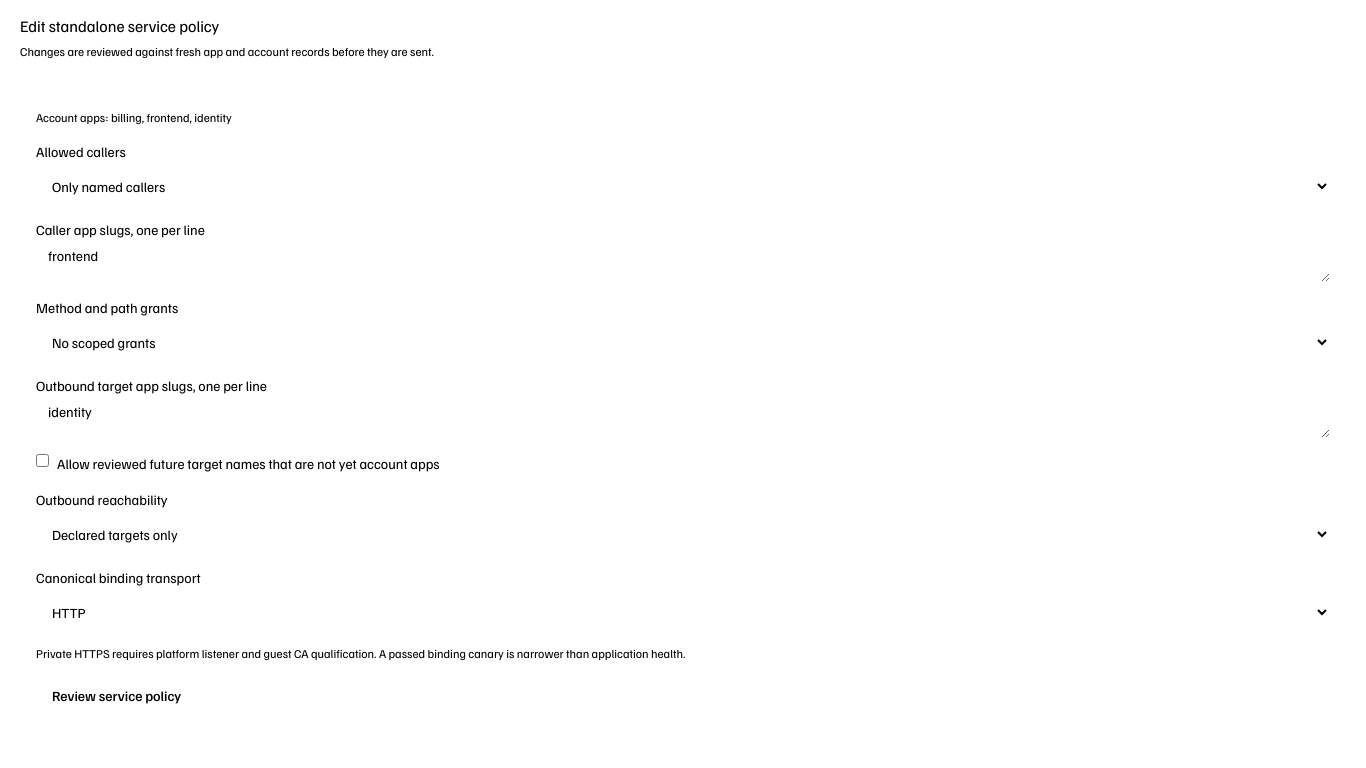
Test: rejects a stale review when policy changes before submit
Select "No internal callers" in the dropdown labelled "Allowed callers" at (683, 186), box [36, 168, 1330, 204]
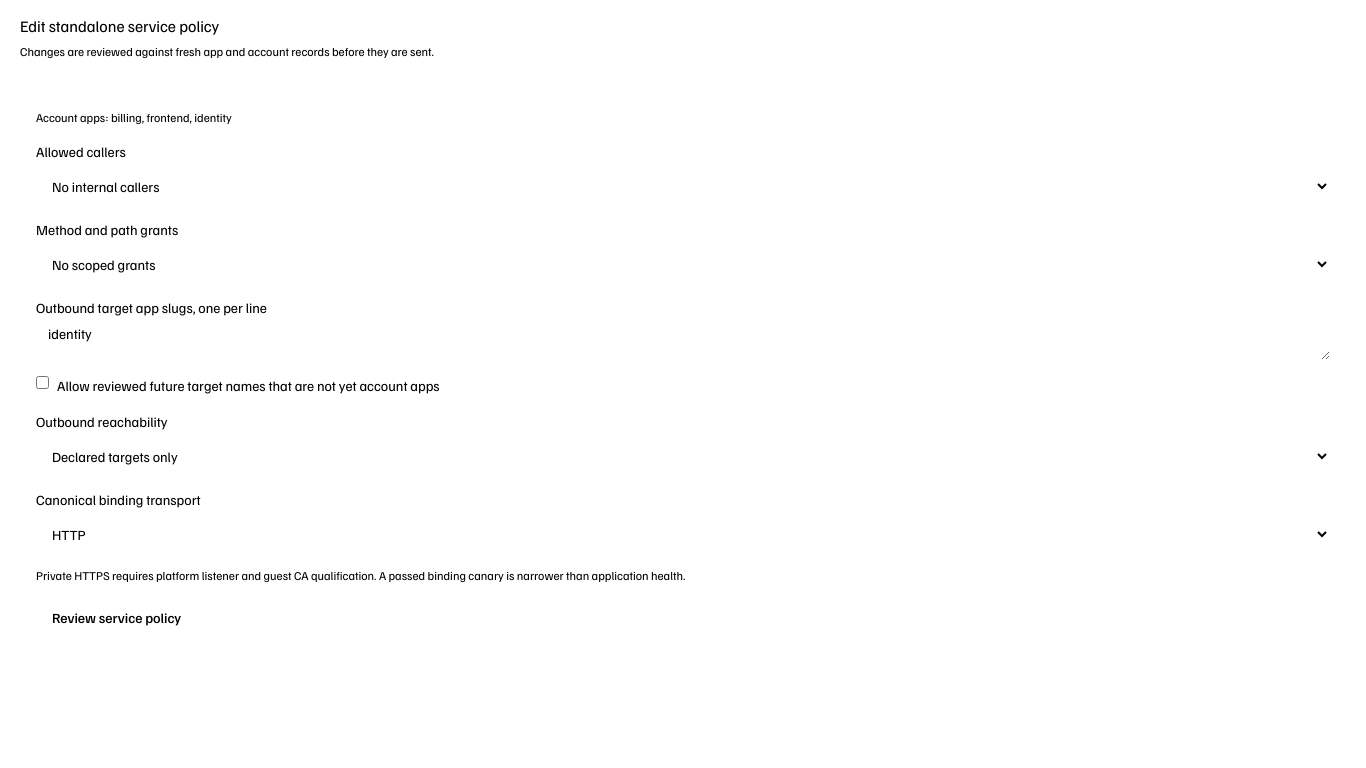
Click the button "Review service policy" at (117, 618), box [36, 600, 197, 636]
(page scrolled)
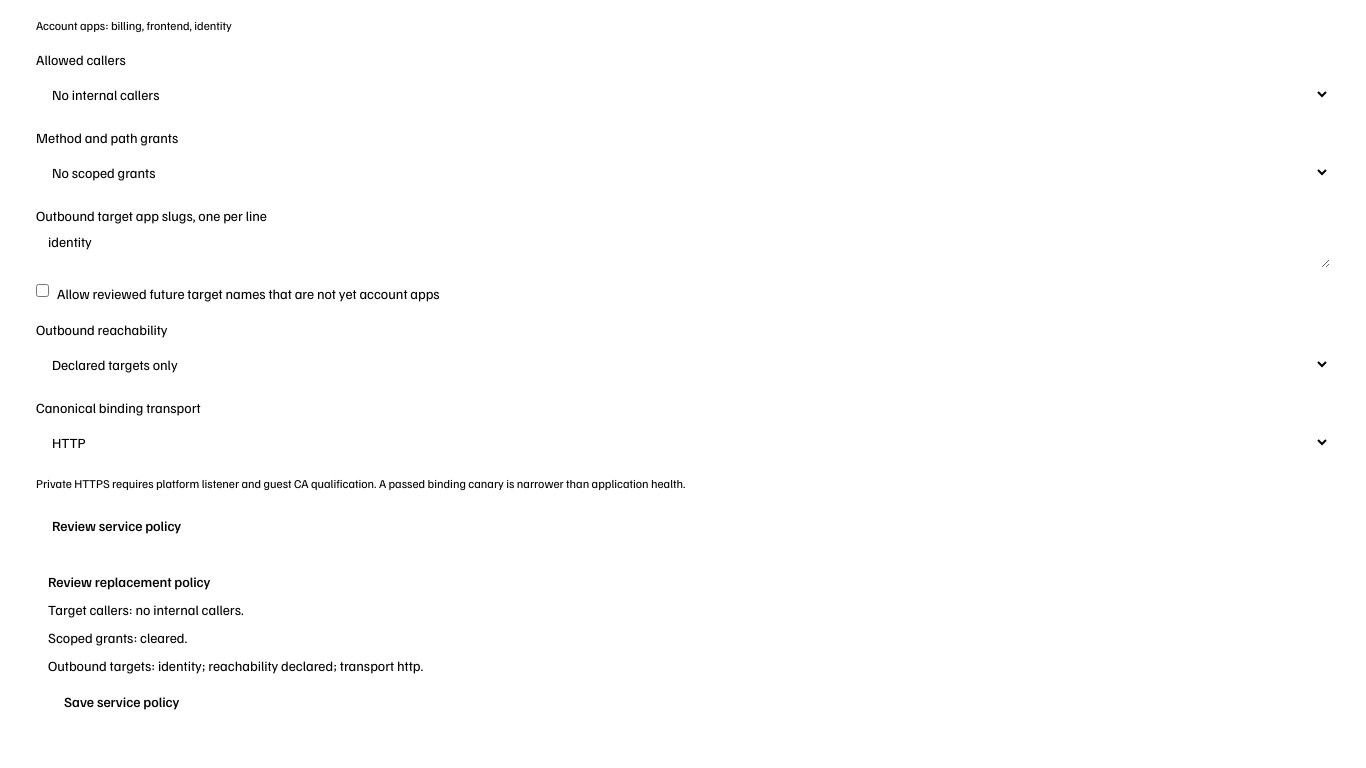
Expected: the button "Save service policy" is shown
Click the button "Save service policy" at (122, 702), box [48, 684, 195, 720]
(page scrolled)
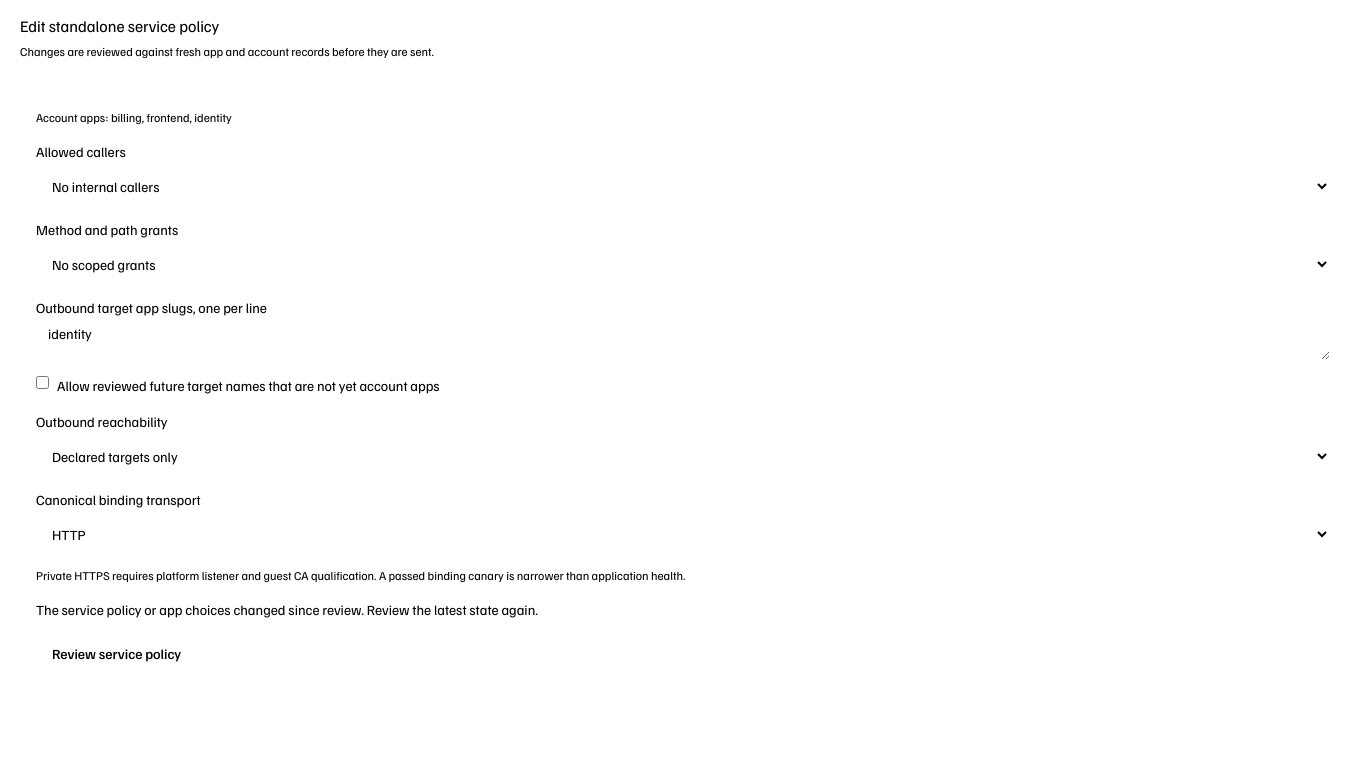
Expected: the message shows "changed since review", [36, 601, 538, 618]
